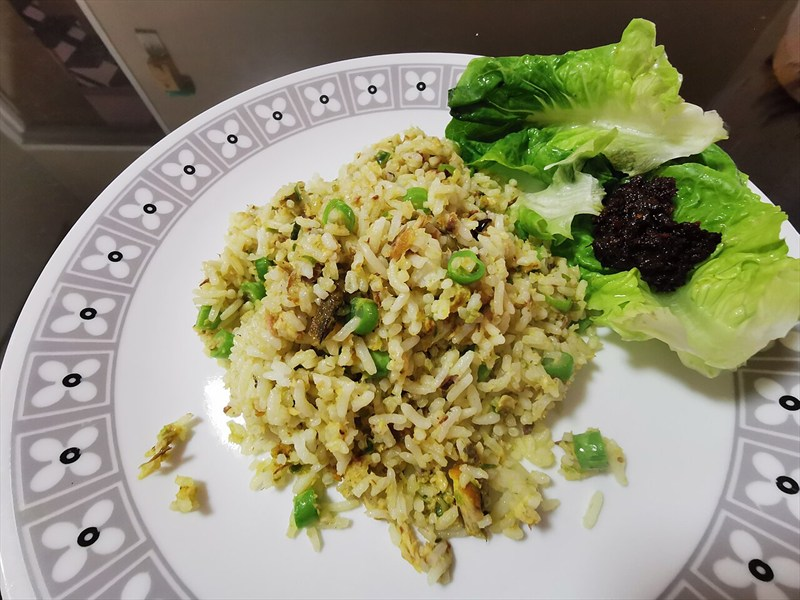Nasi Goreng: (127, 109, 663, 501)
